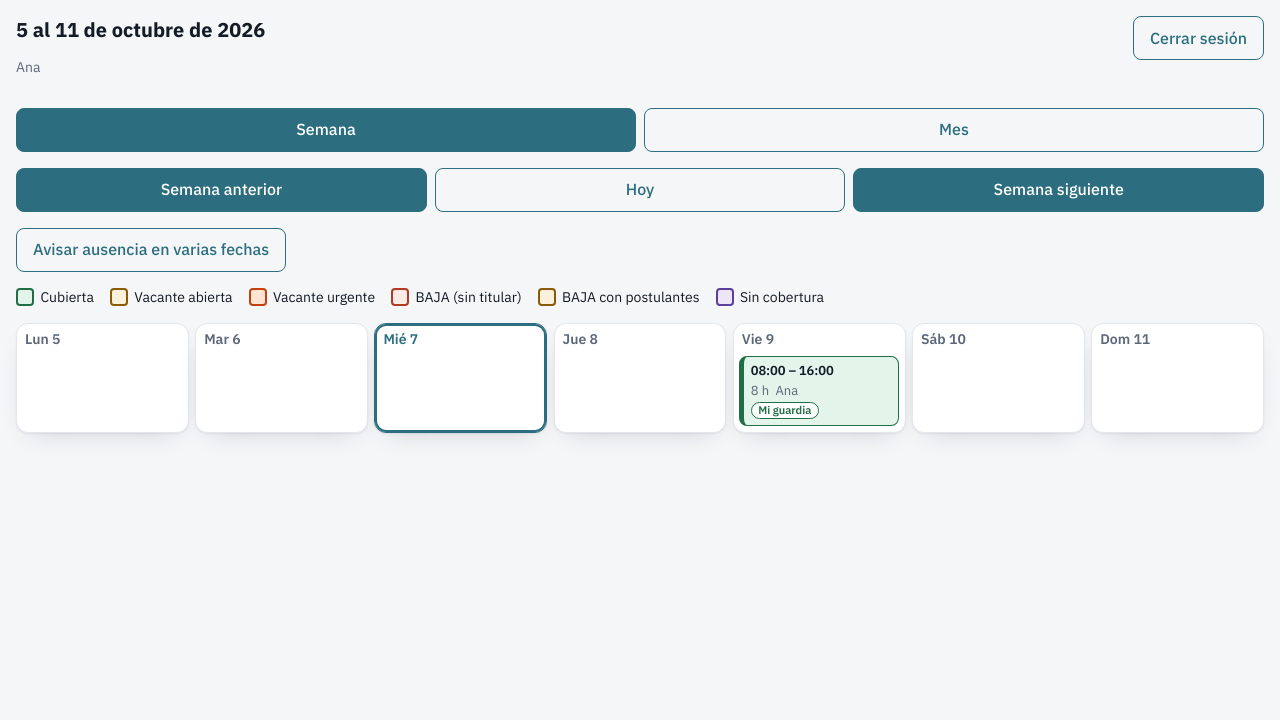
Calendario con ausencias › si el servidor rechaza el aviso, el turno sigue sin vacante y se ve el error
Click the button with test id "turno": (819, 391) [739,356,899,426]
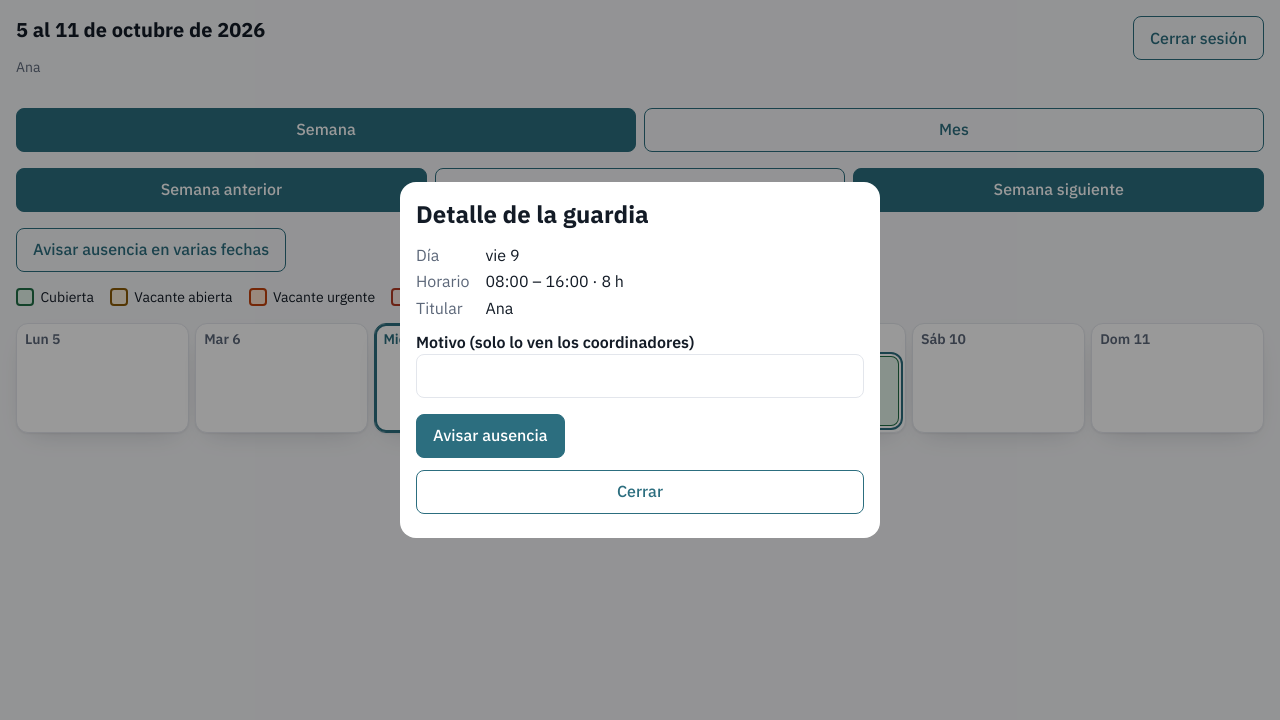
In the field labelled "Motivo (solo lo ven los coordinadores)": (640, 376) [416,354,864,398], type "Congreso"
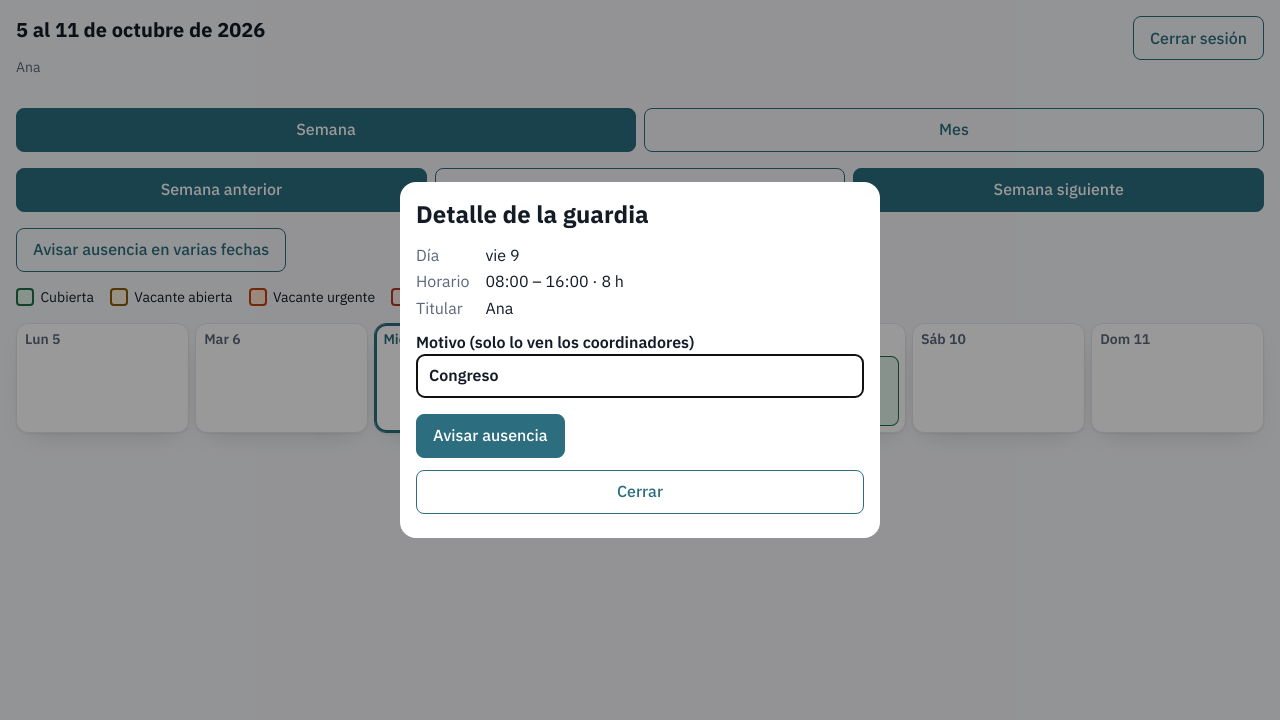
Click the button "Avisar ausencia": (490, 436) [416,414,564,458]
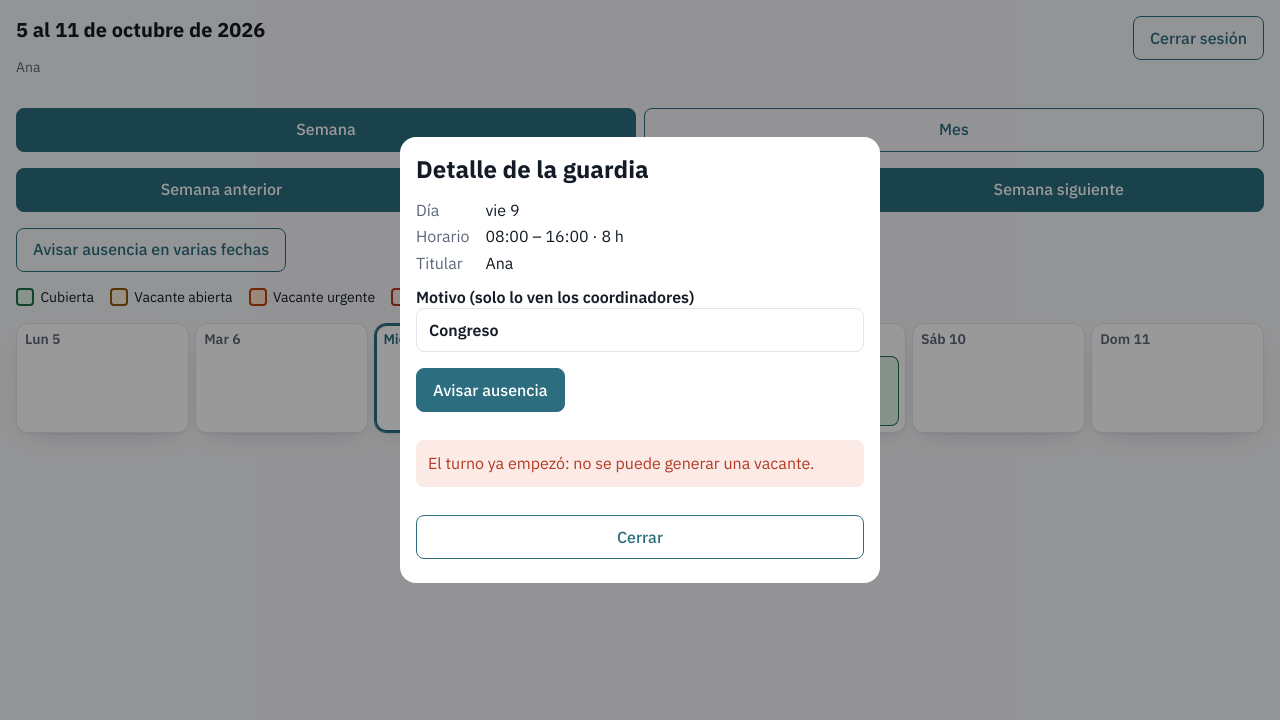
Now the message shows "El turno ya empezó", box [428,453,814,473]
